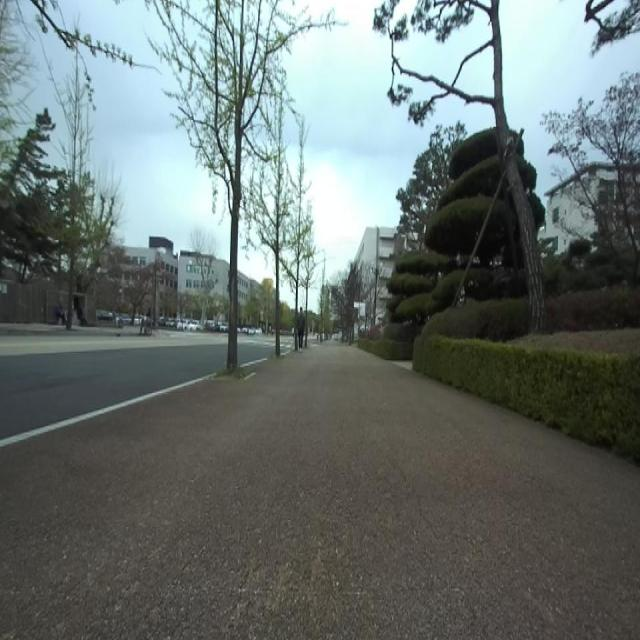sidewalk: (0, 341, 640, 639), (0, 376, 211, 447)
